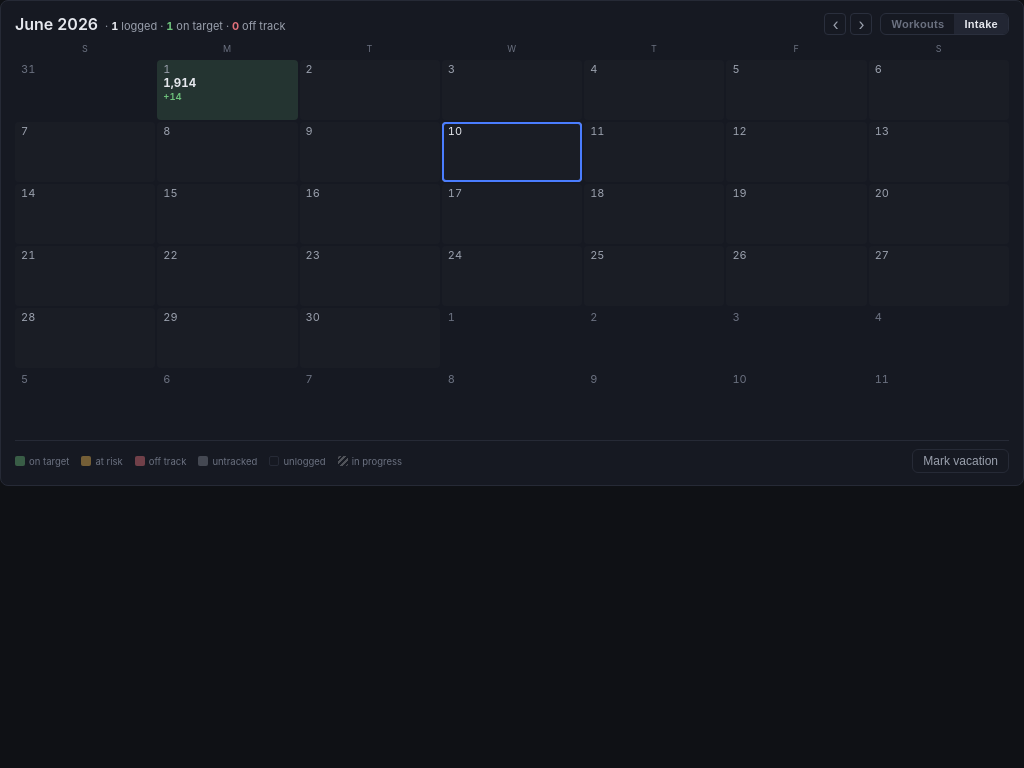
Test: MonthCalendar › renders Mark vacation inside the intake legend row (not its own footer row)
The image size is (1024, 768).
Expected: the element with test id "open-time-off" is shown, [15, 440, 1009, 473]
// Still opens the modal.
Click the button with test id "open-time-off" at coordinates (961, 461), box [912, 449, 1009, 473]
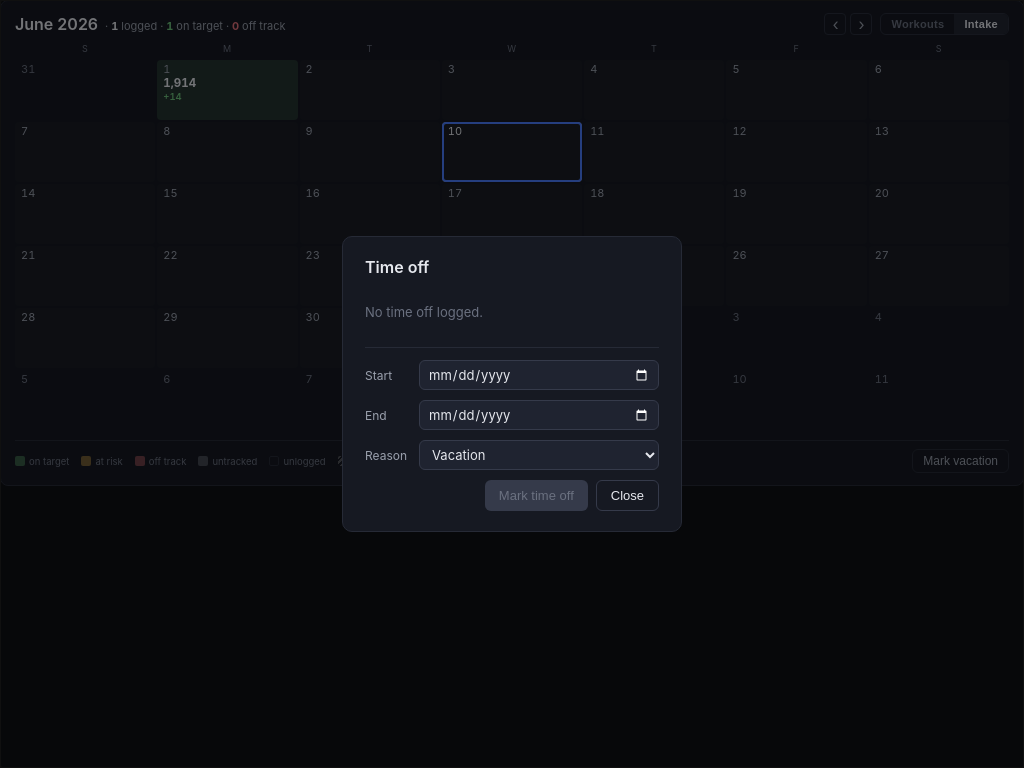
Now the dialog with test id "time-off-modal" is shown
